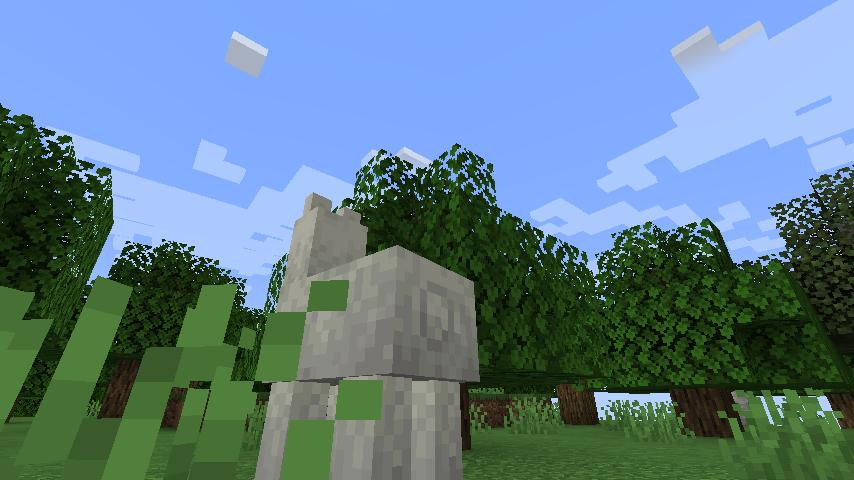llama: (251, 188, 481, 480)
